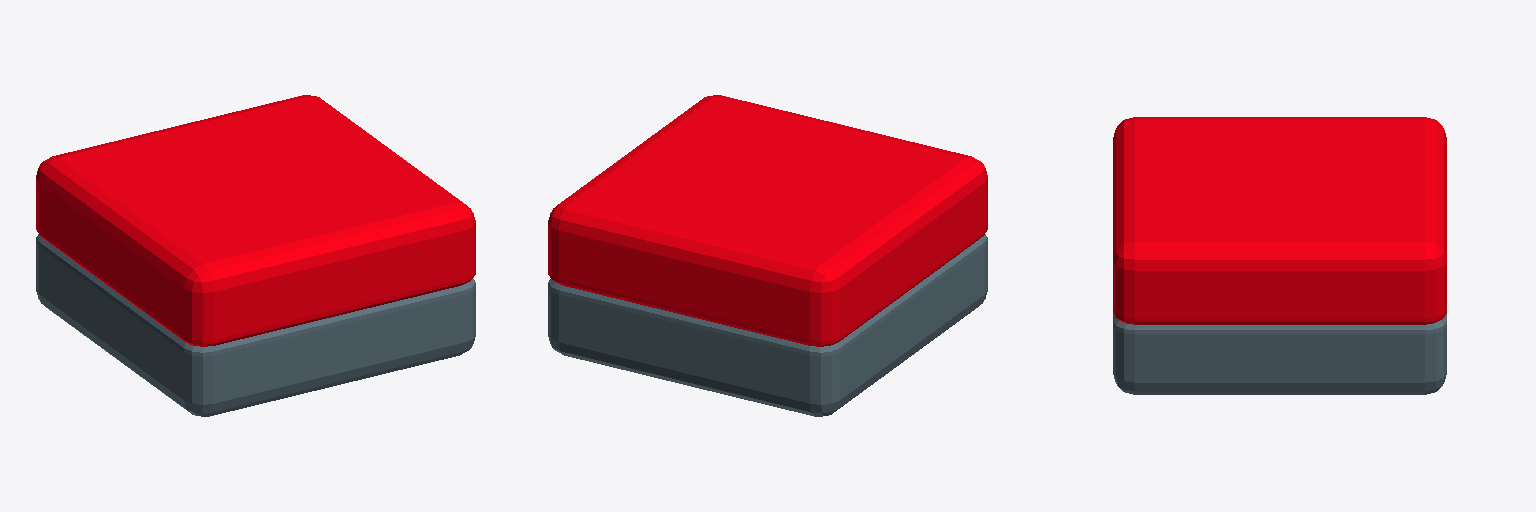
Rendered from tileLow_teamRed.obj.
3 renders of one model, left to right at view 1: azimuth 30°, elevation 25°; view 2: azimuth 150°, elevation 25°; view 3: azimuth 270°, elevation 25°, orthographic.
Parts seen in each view (by area): view 1: tileLow_teamRed_Cube.023; view 2: tileLow_teamRed_Cube.023; view 3: tileLow_teamRed_Cube.023.
Boxes of the visible parts, x1,y1,x2,y2 form: tileLow_teamRed_Cube.023: [36, 95, 475, 416]; tileLow_teamRed_Cube.023: [548, 95, 987, 416]; tileLow_teamRed_Cube.023: [1113, 117, 1446, 394].
Bounding box in the file's own units: 2 × 1 × 2.